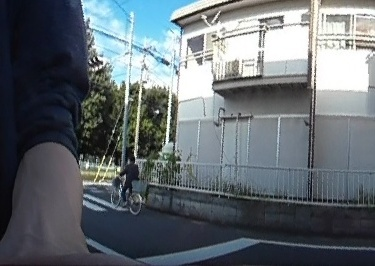person: (121, 153, 138, 192)
